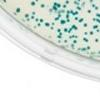Blue_green: (15, 8, 20, 13), (45, 22, 50, 27), (48, 9, 53, 14), (73, 11, 78, 16), (77, 6, 82, 11), (40, 4, 46, 8), (95, 38, 99, 44), (72, 34, 78, 38), (96, 18, 100, 24), (53, 2, 57, 7), (65, 0, 69, 5), (61, 21, 66, 25), (66, 10, 70, 15), (92, 3, 96, 8), (80, 48, 86, 51), (25, 13, 29, 17), (30, 16, 34, 20), (34, 18, 38, 22), (39, 18, 43, 22), (31, 2, 35, 6), (50, 27, 54, 31), (71, 24, 75, 28), (74, 26, 78, 30), (96, 13, 100, 17), (32, 13, 37, 16), (54, 7, 57, 12), (83, 37, 86, 42), (85, 38, 88, 43), (93, 26, 98, 29), (37, 23, 40, 27), (52, 22, 55, 26), (57, 35, 61, 38), (64, 28, 67, 32), (55, 17, 59, 20), (57, 4, 60, 8), (61, 9, 64, 13), (63, 5, 67, 8), (67, 19, 70, 23), (69, 27, 72, 31), (73, 40, 76, 44), (90, 31, 93, 35), (84, 32, 88, 35), (74, 1, 77, 5), (93, 18, 96, 22), (57, 29, 60, 32), (52, 6, 55, 9), (84, 24, 87, 27), (75, 18, 78, 21), (79, 20, 82, 23), (80, 18, 83, 21), (87, 10, 90, 13), (58, 14, 61, 17), (66, 15, 69, 18), (64, 40, 67, 43), (69, 35, 72, 38), (88, 46, 90, 50), (71, 10, 73, 14), (95, 6, 97, 10), (89, 0, 93, 2), (58, 33, 61, 35), (68, 31, 70, 34), (96, 30, 99, 32), (77, 0, 80, 2)
